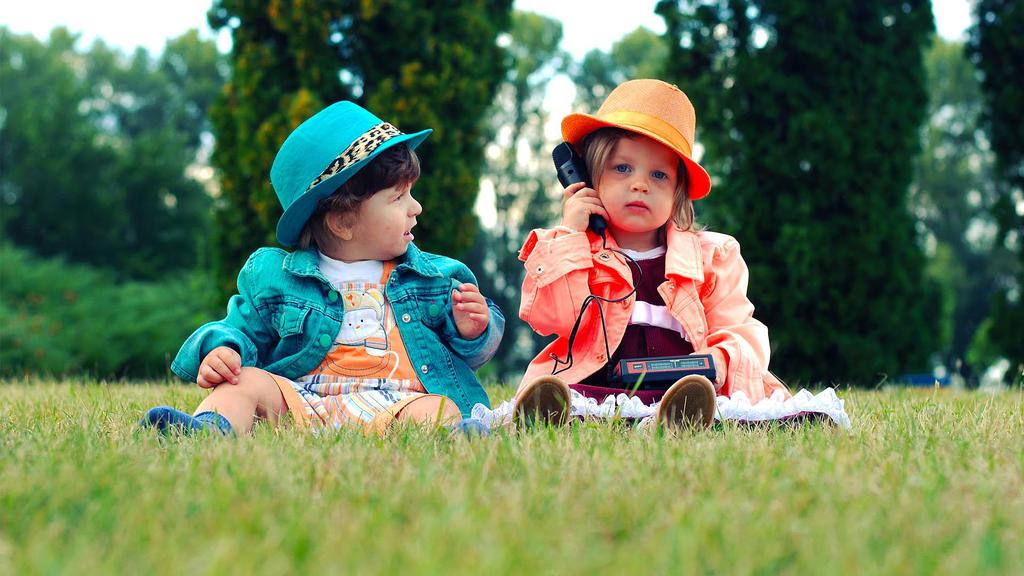child: (153, 79, 504, 459), (498, 71, 847, 445)
